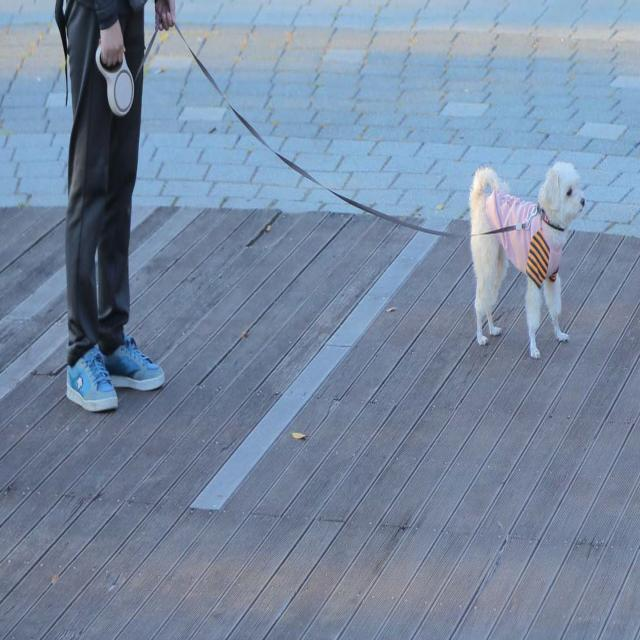Leashed_Dog: (90, 2, 586, 361)
